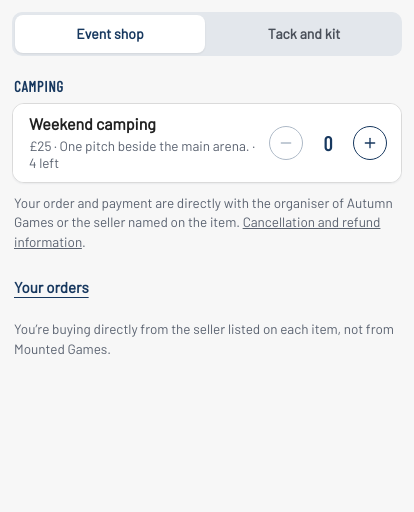
it: EventShopPage › says the order is a demo next to the order button, and not before anything is in the basket
Check: the text "Weekend camping" is shown, box [29,114,156,132]
Click the button named "Add one Weekend camping" at (370, 142), box [353,126,387,160]
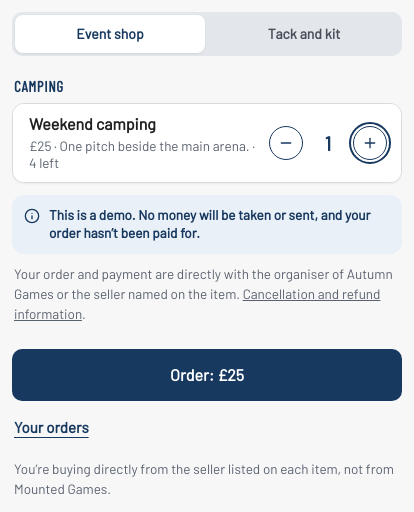
Check: the text "This is a demo. No money will be taken or sent, and your order hasn’t been paid for." is shown, box [49,206,370,242]
